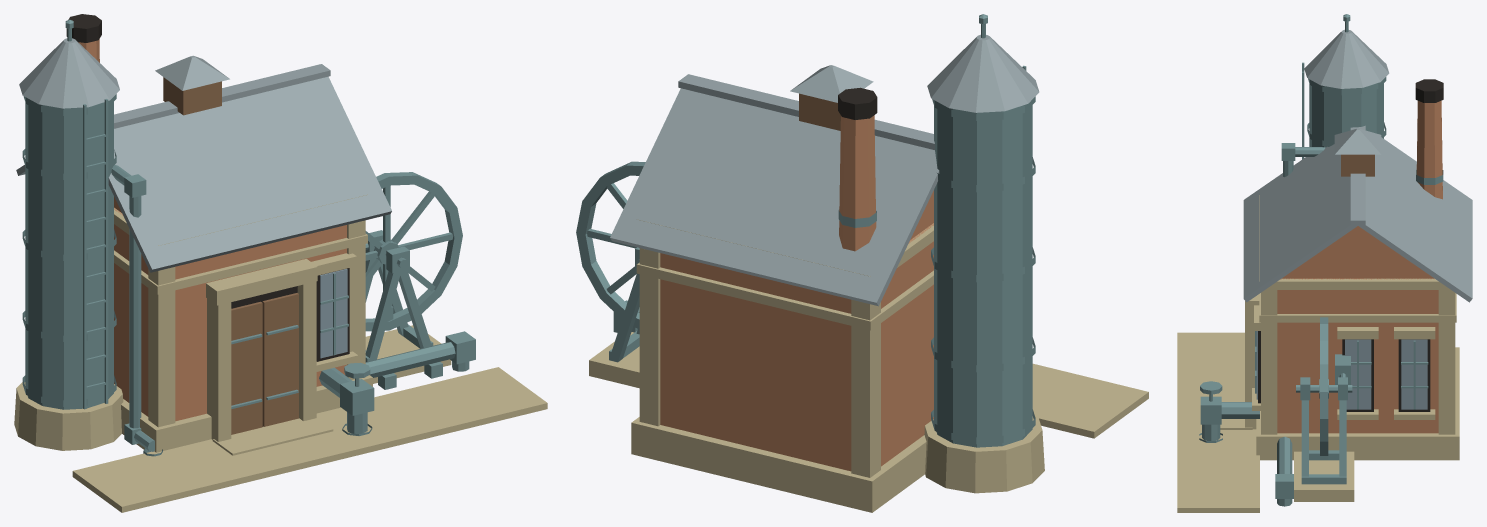
The model's file is era2-waterworks-BU9rNOXR.glb.
The picture shows the model from 3 angles, left to right: view 1: azimuth 30°, elevation 25°; view 2: azimuth 150°, elevation 25°; view 3: azimuth 270°, elevation 25°; orthographic projection. The views are drawn at different scales.
Visible parts, largest first — view 1: Waterworks_Stonework, Waterworks_Roof, Waterworks_Tank, Waterworks_Ironwork, Waterworks_Hall, Waterworks_Timber, Waterworks_Flywheel, Waterworks_Glazing, Waterworks_Openings, Waterworks_StackCap; view 2: Waterworks_Roof, Waterworks_Hall, Waterworks_Stonework, Waterworks_Tank, Waterworks_Flywheel, Waterworks_Ironwork, Waterworks_Timber, Waterworks_StackCap; view 3: Waterworks_Stonework, Waterworks_Roof, Waterworks_Hall, Waterworks_Ironwork, Waterworks_Tank, Waterworks_Glazing, Waterworks_Flywheel, Waterworks_Openings, Waterworks_Timber, Waterworks_StackCap.
Boxes of the visible parts, left/top/right/bottom form: Waterworks_Stonework: left=14, top=194, right=547, bottom=512; Waterworks_Roof: left=16, top=38, right=391, bottom=272; Waterworks_Tank: left=22, top=94, right=116, bottom=409; Waterworks_Ironwork: left=65, top=19, right=475, bottom=456; Waterworks_Hall: left=78, top=39, right=346, bottom=421; Waterworks_Timber: left=163, top=77, right=298, bottom=434; Waterworks_Flywheel: left=365, top=172, right=462, bottom=331; Waterworks_Glazing: left=320, top=269, right=347, bottom=358; Waterworks_Openings: left=231, top=268, right=349, bottom=361; Waterworks_StackCap: left=66, top=14, right=101, bottom=42; Waterworks_Roof: left=610, top=34, right=1039, bottom=306; Waterworks_Hall: left=660, top=115, right=933, bottom=471; Waterworks_Stonework: left=589, top=219, right=1148, bottom=512; Waterworks_Tank: left=931, top=96, right=1035, bottom=447; Waterworks_Flywheel: left=576, top=161, right=645, bottom=329; Waterworks_Ironwork: left=609, top=14, right=1026, bottom=362; Waterworks_Timber: left=799, top=93, right=840, bottom=130; Waterworks_StackCap: left=838, top=87, right=877, bottom=119; Waterworks_Stonework: left=1177, top=195, right=1459, bottom=512; Waterworks_Roof: left=1243, top=29, right=1472, bottom=302; Waterworks_Hall: left=1277, top=100, right=1442, bottom=433; Waterworks_Ironwork: left=1199, top=14, right=1443, bottom=506; Waterworks_Tank: left=1307, top=77, right=1386, bottom=147; Waterworks_Glazing: left=1256, top=331, right=1427, bottom=409; Waterworks_Flywheel: left=1319, top=317, right=1328, bottom=460; Waterworks_Openings: left=1258, top=331, right=1430, bottom=411; Waterworks_Timber: left=1341, top=154, right=1374, bottom=176; Waterworks_StackCap: left=1415, top=79, right=1443, bottom=102.
Bounding box in the file's own units: 11 × 10.07 × 7.84.
